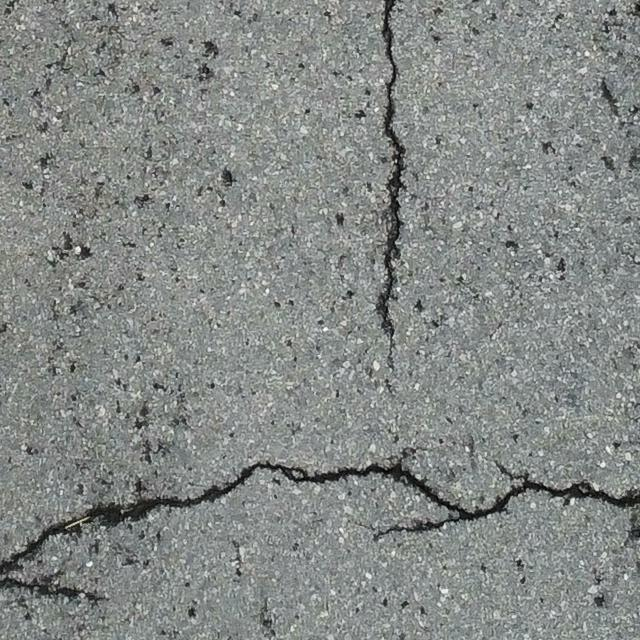LongitudinalCrack: (371, 1, 407, 329)
TransverseCrack: (1, 459, 640, 603)
